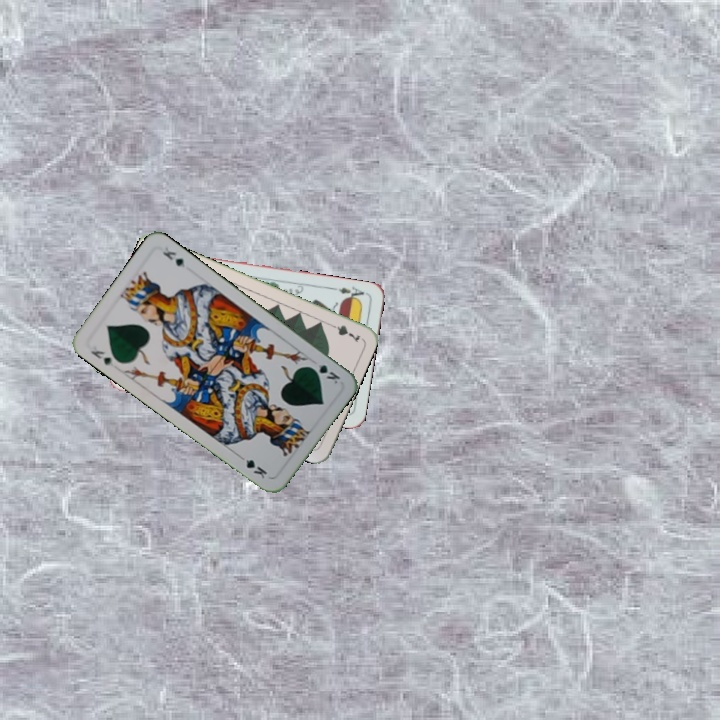EA: (329, 282, 369, 303)
G7: (324, 319, 363, 345)
GK: (305, 360, 343, 387), (86, 346, 116, 369)
